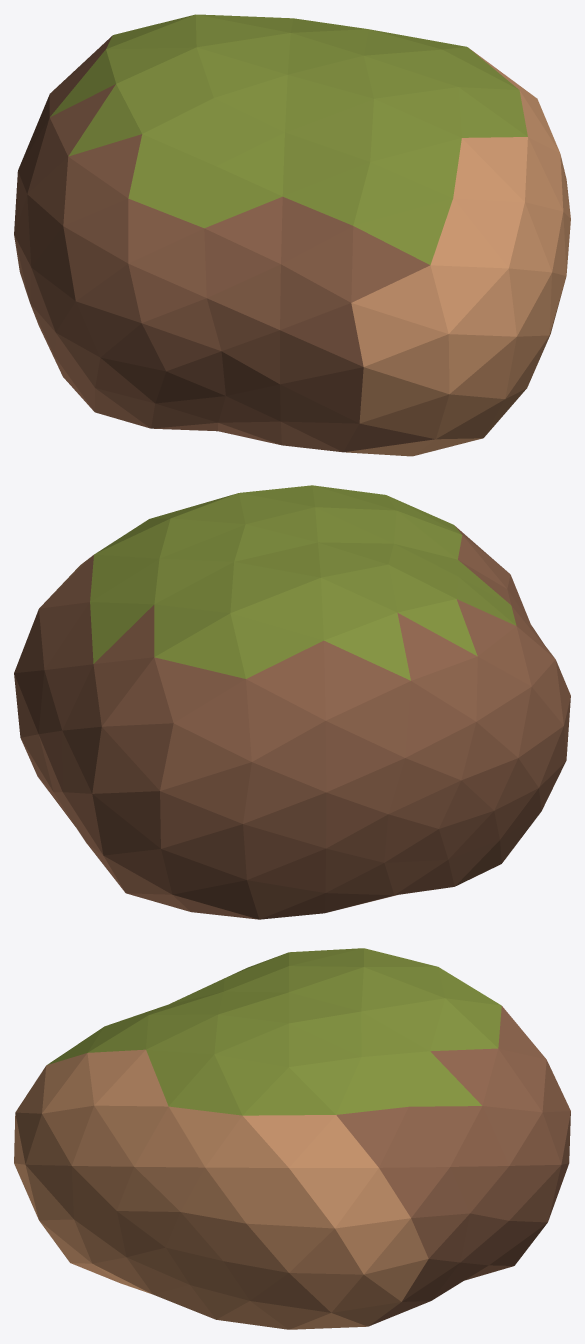
File: rock_a.glb
3 renders of one model, top to bottom at view 1: azimuth 30°, elevation 25°; view 2: azimuth 150°, elevation 25°; view 3: azimuth 270°, elevation 25°, orthographic. The views are drawn at different scales.
Parts seen in each view (by area): view 1: main__rock_body_flat, main__rock_moss_flat, main__rock_light_flat; view 2: main__rock_body_flat, main__rock_moss_flat; view 3: main__rock_light_flat, main__rock_moss_flat, main__rock_body_flat.
Part boxes in pixels (left/top/right/bottom): main__rock_body_flat: left=14, top=35, right=434, bottom=452; main__rock_moss_flat: left=50, top=14, right=527, bottom=264; main__rock_light_flat: left=345, top=48, right=570, bottom=456; main__rock_body_flat: left=14, top=525, right=570, bottom=919; main__rock_moss_flat: left=90, top=485, right=516, bottom=680; main__rock_light_flat: left=14, top=1049, right=428, bottom=1329; main__rock_moss_flat: left=47, top=948, right=501, bottom=1115; main__rock_body_flat: left=336, top=1006, right=570, bottom=1326.
Size of the model in its own units: 1.93 by 1.08 by 2.15.
